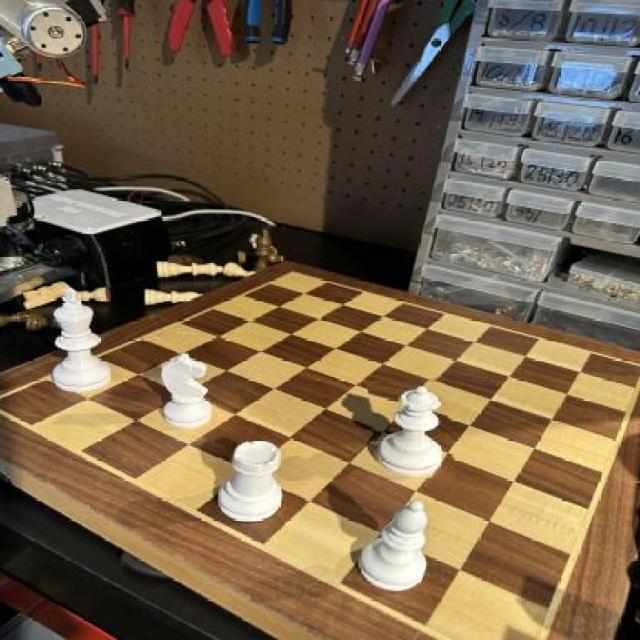black-rook: (357, 498, 433, 598)
white-bishop: (48, 289, 117, 400)
white-king: (158, 352, 218, 432)
white-pawn: (371, 380, 454, 481)
white-queen: (217, 437, 292, 525)
